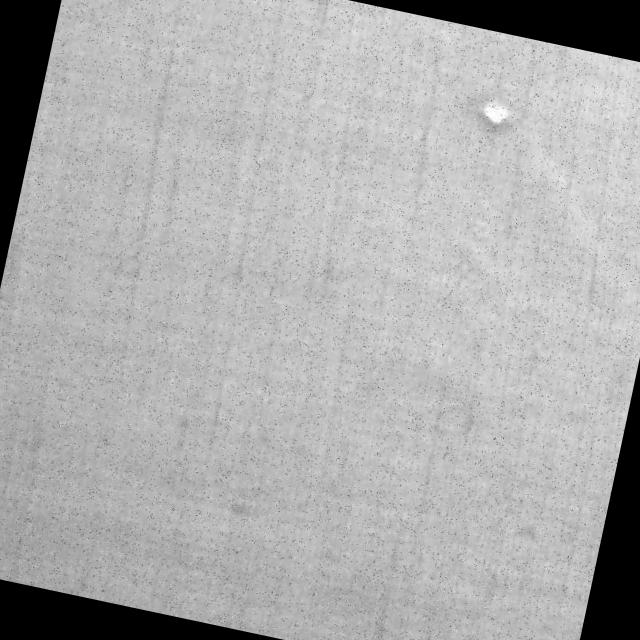hole: (468, 88, 523, 136)
